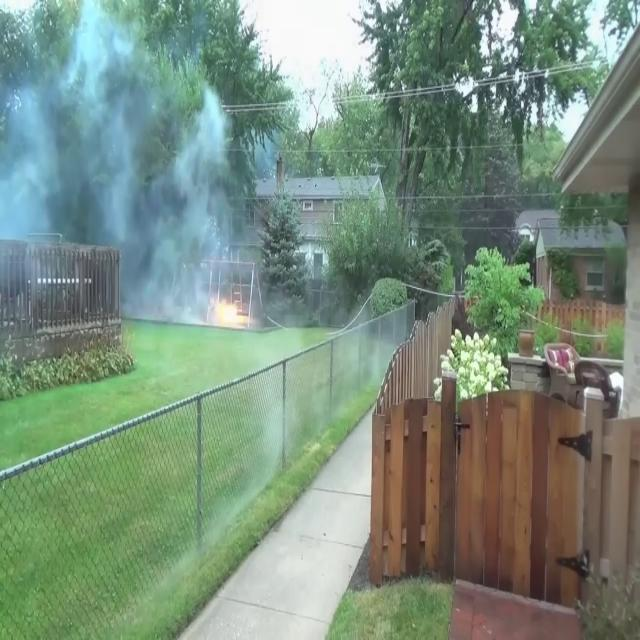Fire: (210, 290, 248, 328)
Smoke: (0, 1, 248, 320)
